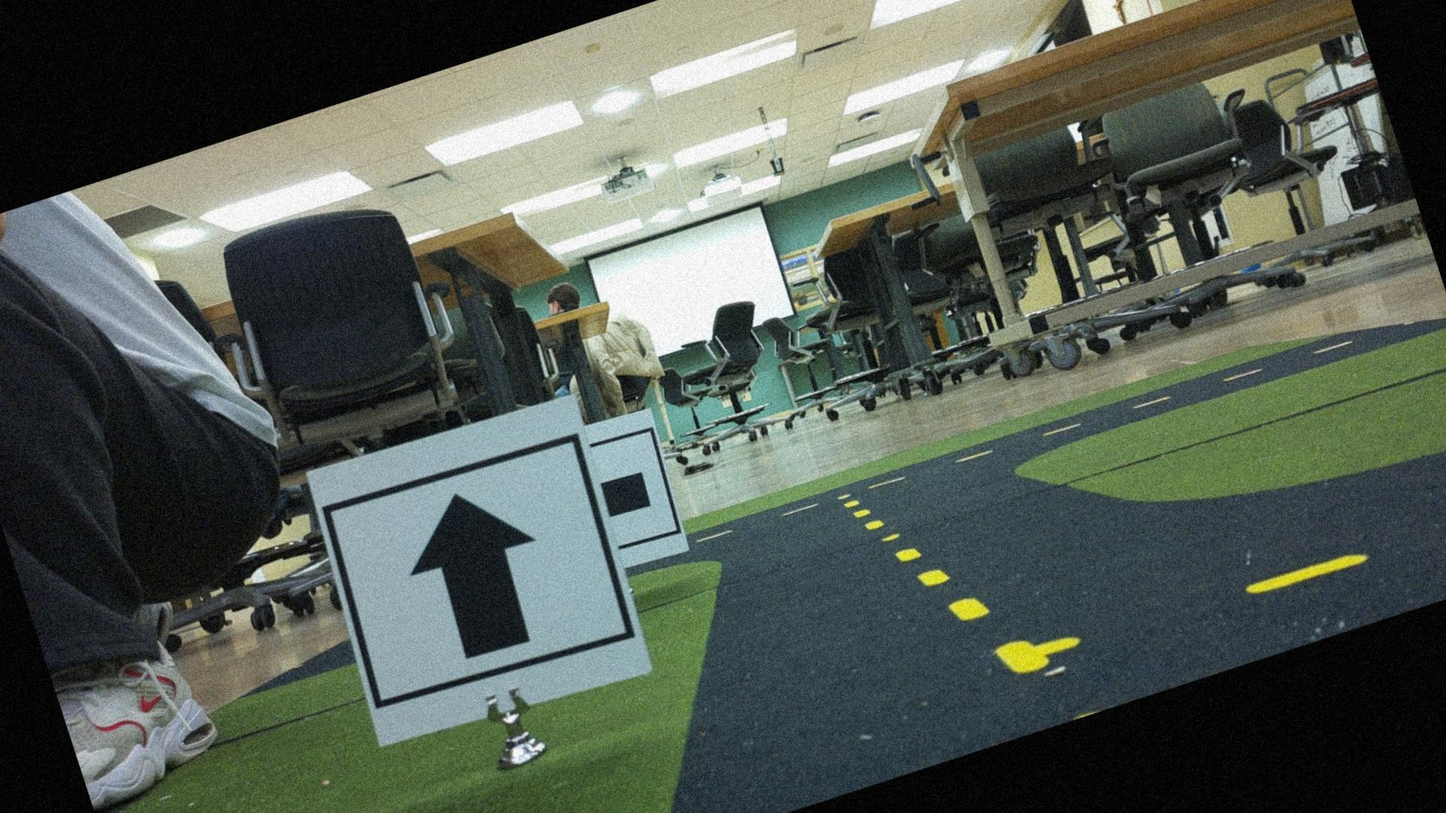gostraight: (309, 402, 644, 743)
yellowline: (836, 446, 1051, 715)
